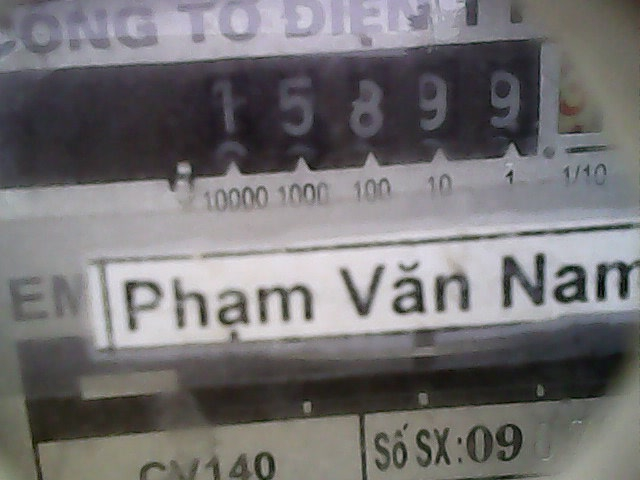phy_plate: (185, 38, 621, 168)
